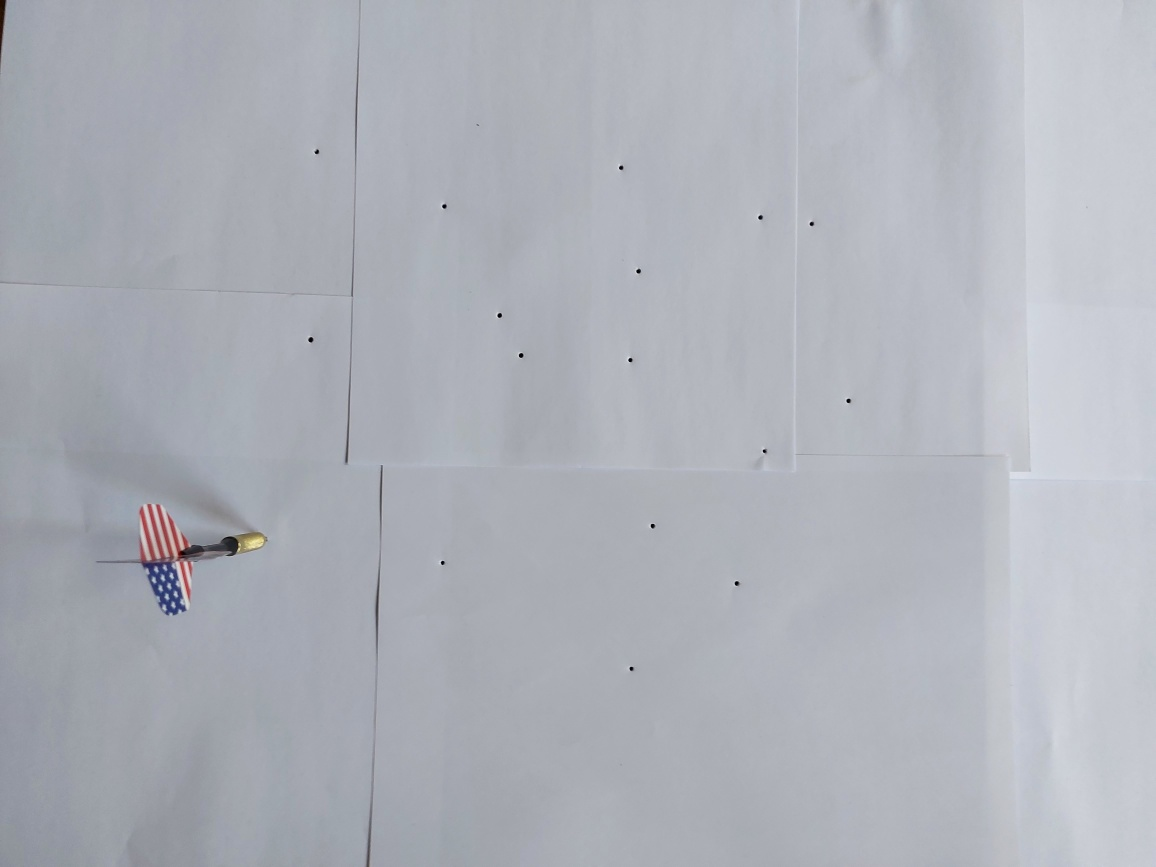Dart: (88, 488, 281, 615)
